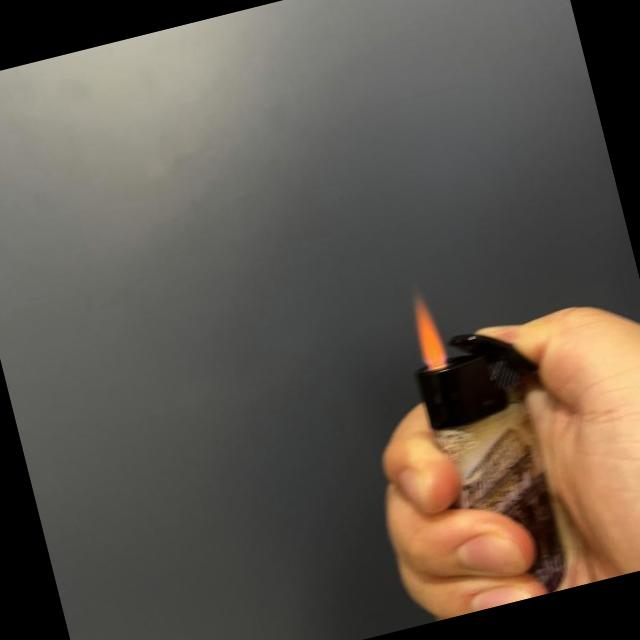fire: (402, 292, 454, 372)
